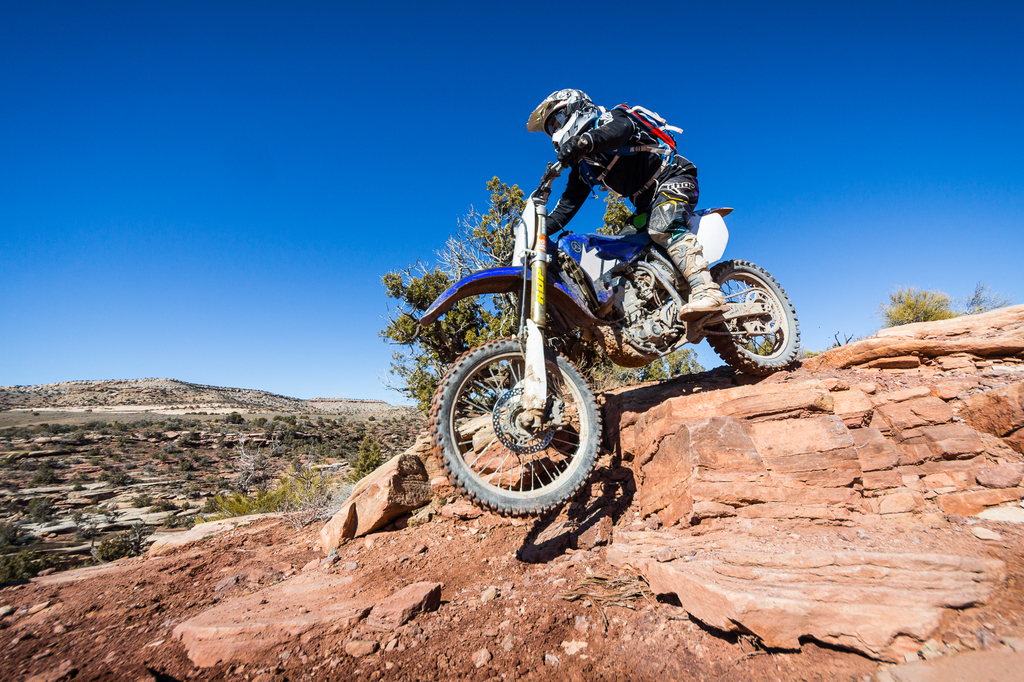Motorcycle: (424, 190, 792, 541)
